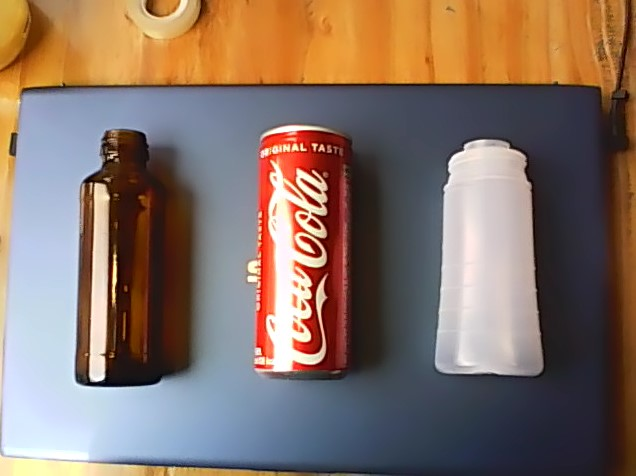Can: (249, 120, 357, 386)
Glass: (71, 125, 171, 390)
Plastic: (429, 133, 548, 382)
